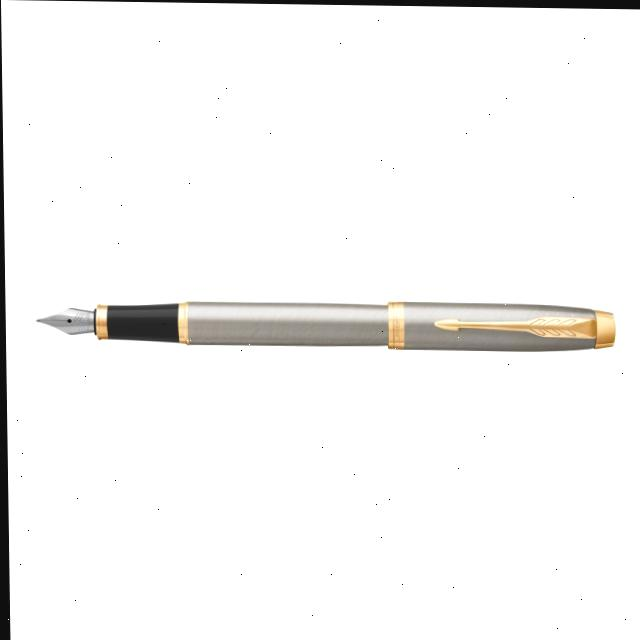pen: (34, 294, 616, 352)
